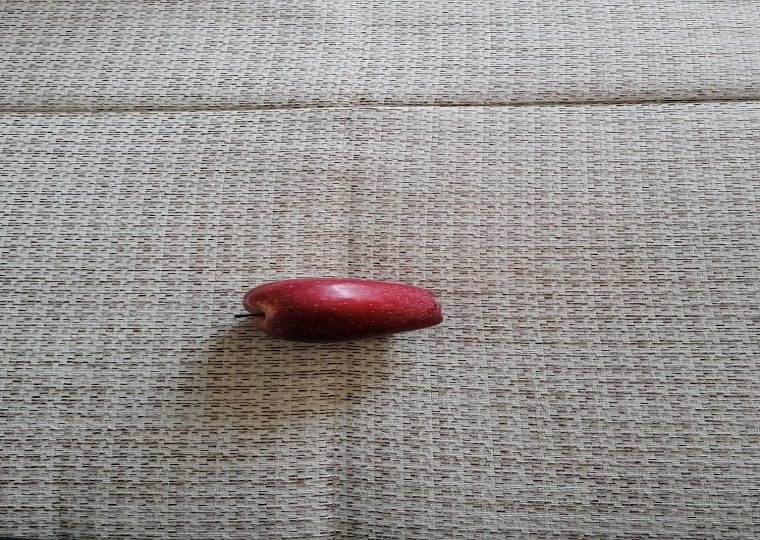elma: (234, 276, 445, 345)
